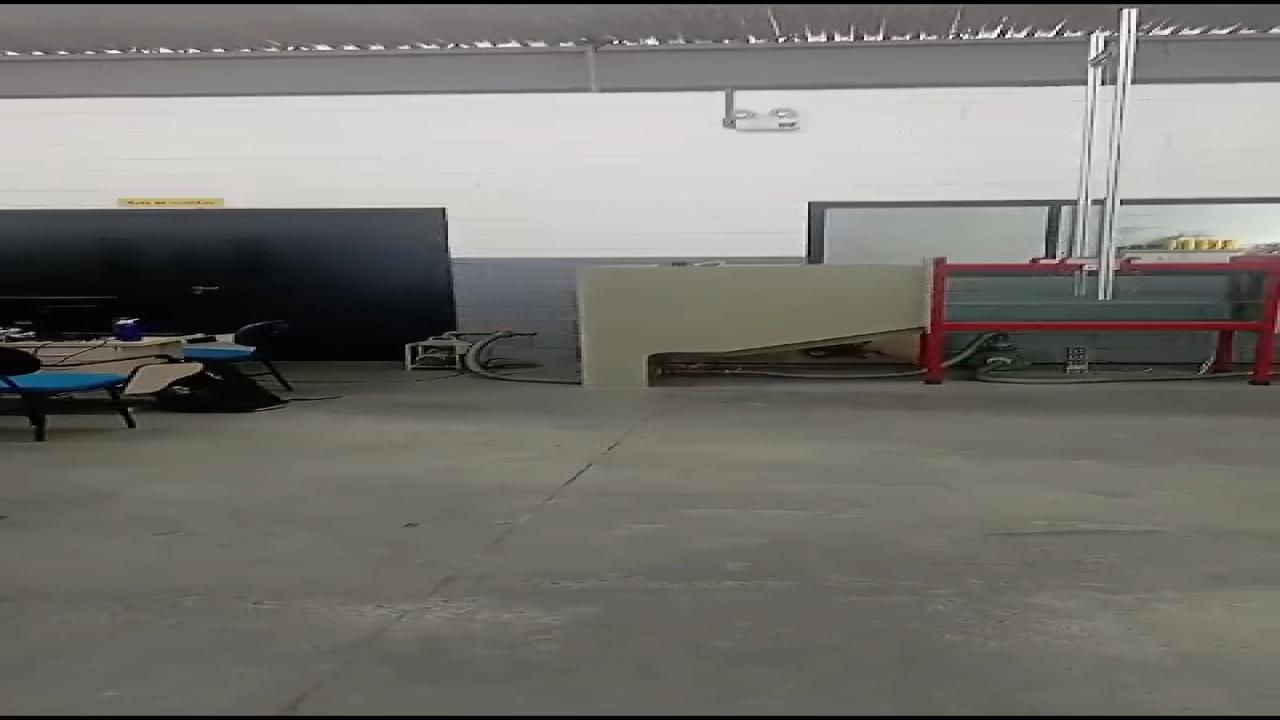Cube: (672, 262, 688, 266)
